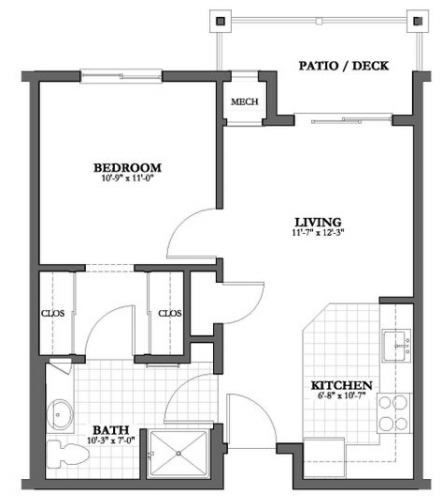door: (219, 385, 279, 447), (157, 372, 220, 426), (161, 204, 220, 261), (86, 298, 139, 355), (224, 275, 269, 324)
room: (23, 71, 220, 263), (226, 122, 420, 300), (232, 302, 420, 482), (34, 361, 217, 481), (26, 268, 233, 359)
wall: (26, 70, 50, 490), (409, 70, 426, 489), (37, 473, 224, 493), (293, 476, 433, 493), (212, 71, 225, 211), (160, 66, 232, 87), (131, 260, 220, 276), (181, 267, 194, 368), (258, 70, 281, 119), (208, 324, 226, 379), (38, 350, 87, 369), (19, 69, 81, 84), (134, 352, 194, 367), (30, 262, 85, 276), (390, 113, 425, 133), (138, 425, 150, 480), (265, 113, 295, 129), (277, 439, 302, 458), (188, 331, 218, 346), (374, 296, 418, 306)
window: (299, 109, 387, 128), (81, 70, 161, 82), (235, 67, 255, 82)
